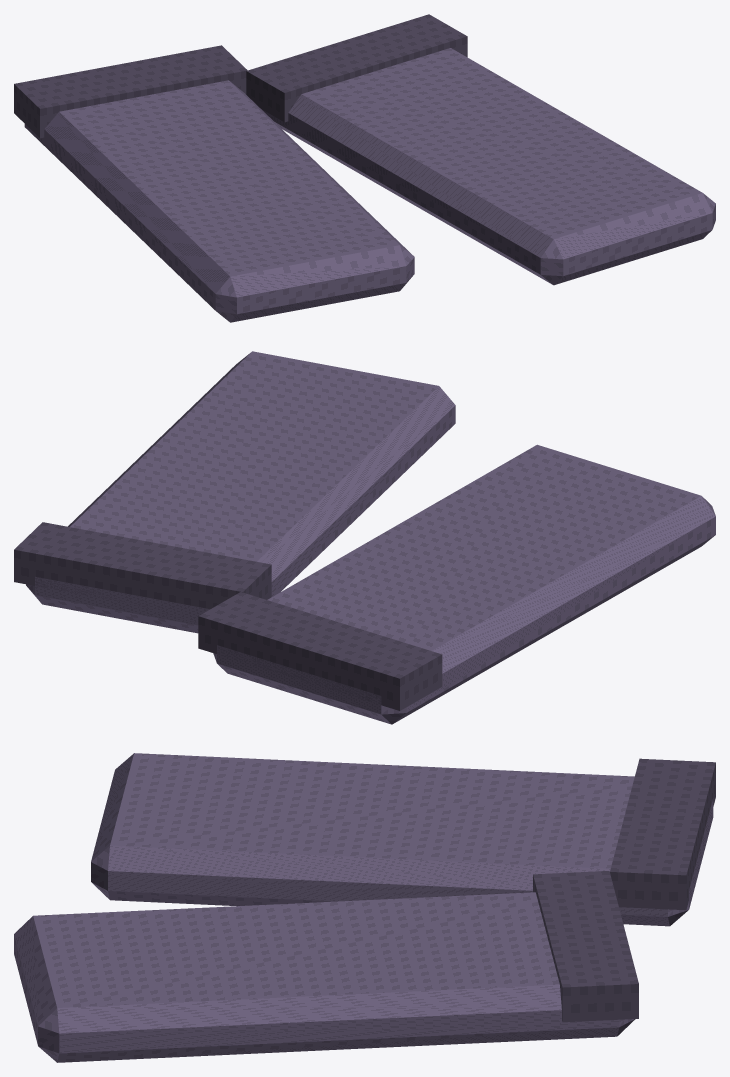
File: leg_warmers.glb
3 views of the same model, one above another, from view 1: azimuth 30°, elevation 25°; view 2: azimuth 150°, elevation 25°; view 3: azimuth 270°, elevation 25° (orthographic). The views are drawn at different scales.
Visible parts, largest first — view 1: block_knitted leg (×2), block_binding (×2); view 2: block_knitted leg (×2), block_binding (×2); view 3: block_knitted leg (×2), block_binding (×2).
Boxes of the visible parts, x1=… form: block_knitted leg (×2): x1=24, y1=48, x2=715, y2=322; block_binding (×2): x1=14, y1=14, x2=467, y2=138; block_knitted leg (×2): x1=26, y1=351, x2=715, y2=724; block_binding (×2): x1=14, y1=522, x2=442, y2=710; block_knitted leg (×2): x1=14, y1=753, x2=713, y2=1062; block_binding (×2): x1=533, y1=758, x2=715, y2=1022.
Bounding box in the file's own units: 0.2334 × 0.025 × 0.2554.
Materials: 1 (1 with a texture image).
